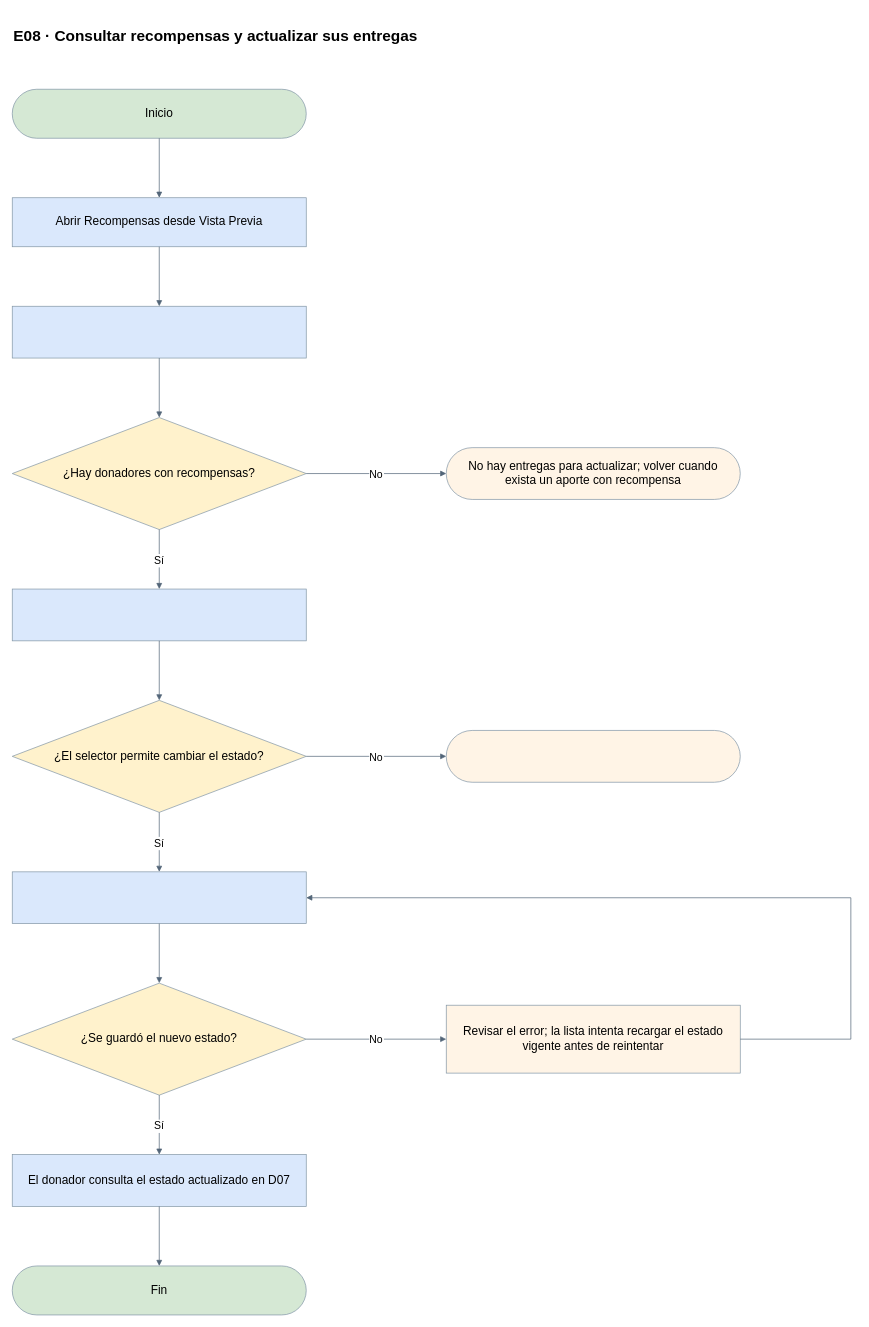
The diagram is 869 pixels wide and 1327 high, and some of its shapes have lost their labels. The shapes that lost their labels are listed below. From the top down, each one's box as (x1, y1, x2, y2) in pixels, then its label:
(12, 306, 306, 358): Consultar título, descripción y rango de cada nivel
(12, 588, 306, 641): Para entregas: desplegar Donadores con Recompensas
(446, 730, 740, 782): Consultar solamente: no hay transiciones disponibles para ese registro
(12, 871, 306, 924): Elegir en cada registro uno de los estados de seguimiento permitidos
